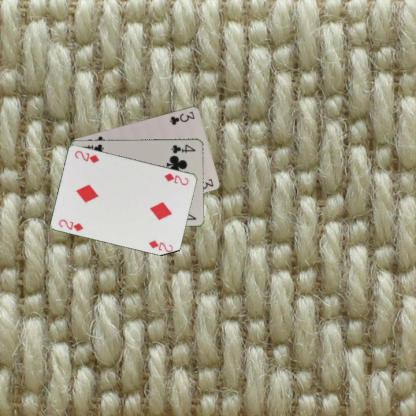2d: (55, 217, 85, 232), (162, 170, 190, 186)
3c: (167, 109, 196, 126)
4c: (169, 142, 197, 154)
